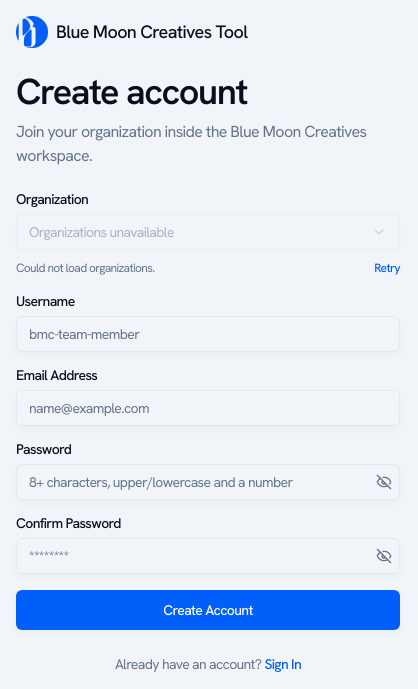
Test: SignUp page organization picker › shows a retry state when the organization directory fails
Expected: the button "Create Account" is disabled, [16,590,400,630]
Click the button "Retry".
click(387, 268)  # box [374,260,400,276]
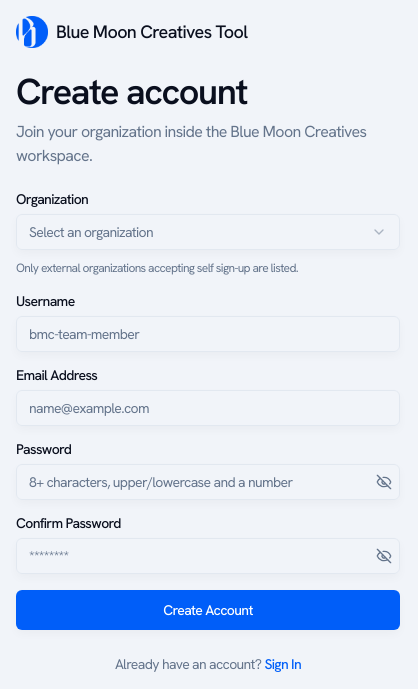
Expected: the dropdown labelled "Select an organization" is enabled, [16,214,400,250]
